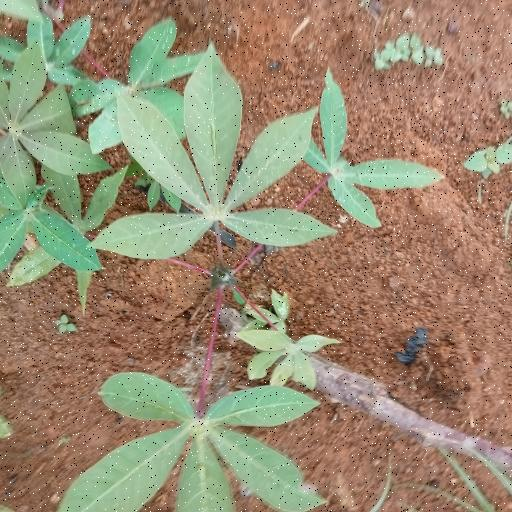Cassava_Mosaic: (103, 55, 329, 269), (103, 379, 318, 512), (0, 49, 96, 207)
